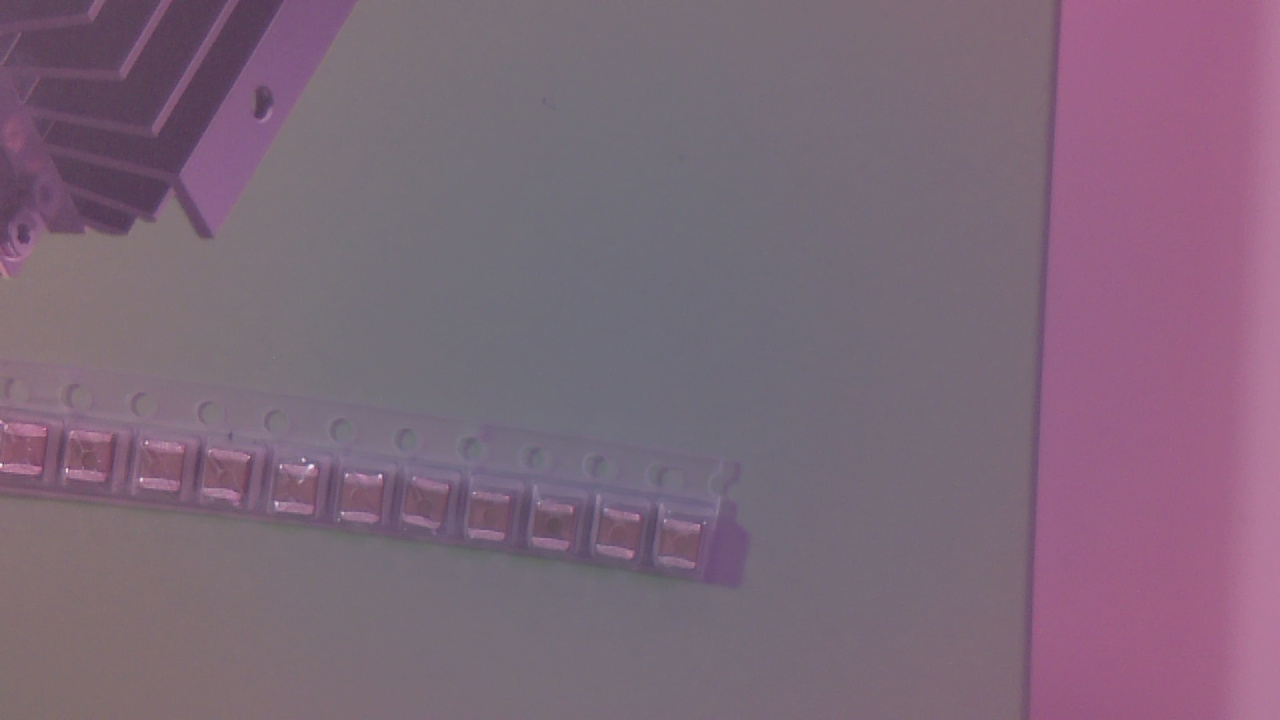Condensator: (405, 478, 457, 536), (140, 439, 192, 496), (6, 419, 54, 479), (205, 447, 256, 503), (534, 500, 579, 557), (470, 494, 520, 545), (70, 435, 117, 486), (345, 473, 387, 528), (603, 511, 648, 562), (278, 465, 320, 519), (663, 524, 708, 574)
